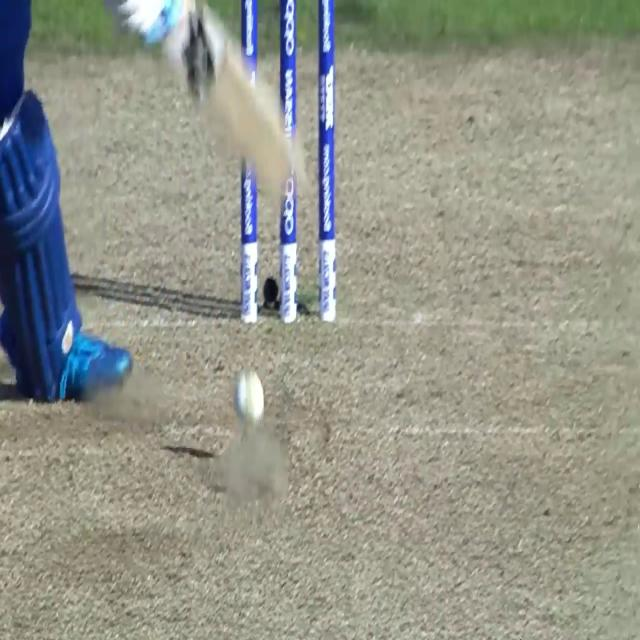ball: (223, 358, 271, 438)
